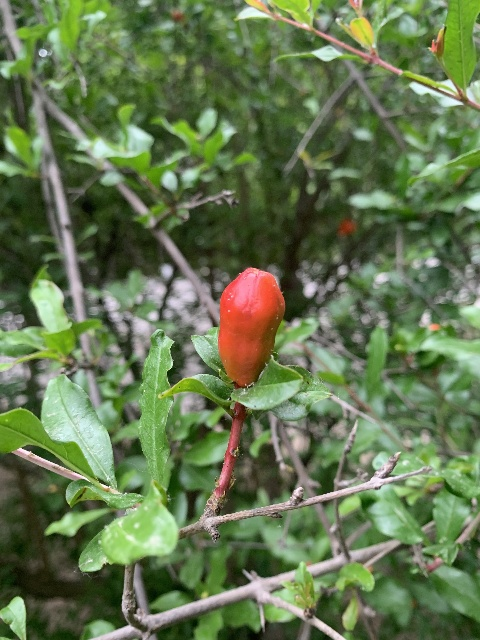bud: (217, 266, 284, 386)
